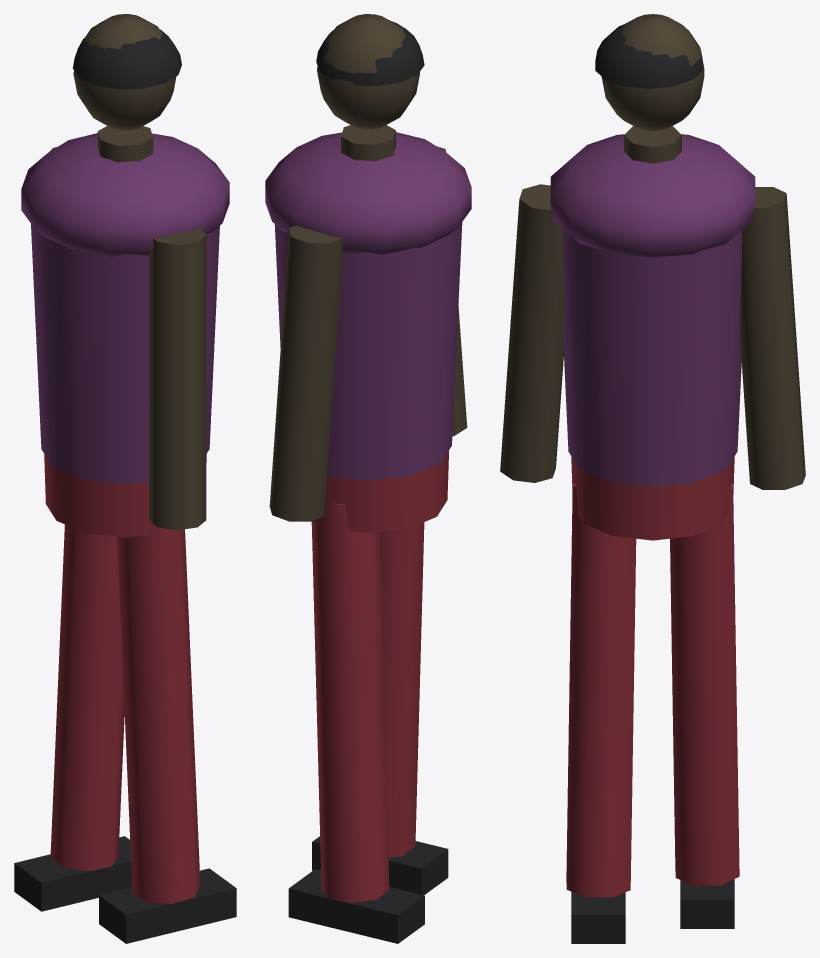
The model's file is KIT_FIGURE_3.glb.
3 views of the same model, side by side, from view 1: azimuth 30°, elevation 25°; view 2: azimuth 150°, elevation 25°; view 3: azimuth 270°, elevation 25° (orthographic).
Visible parts, largest first — view 1: KIT_FIGURE_3; view 2: KIT_FIGURE_3; view 3: KIT_FIGURE_3.
Part boxes in pixels (x1=…): KIT_FIGURE_3: x1=14, y1=14, x2=236, y2=943; KIT_FIGURE_3: x1=265, y1=14, x2=471, y2=943; KIT_FIGURE_3: x1=500, y1=14, x2=805, y2=943.
Bounding box in the file's own units: 0.3276 × 1.53 × 0.4772.
